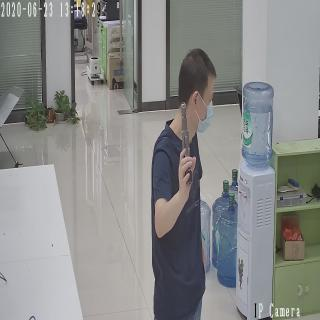gun: (179, 98, 194, 190)
